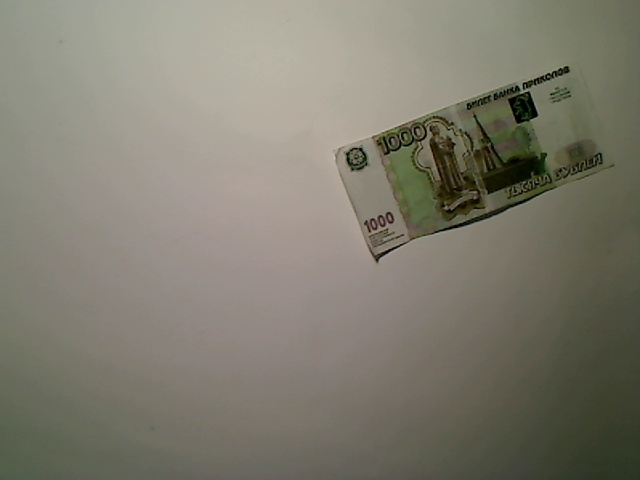banknotes: (329, 50, 619, 263)
